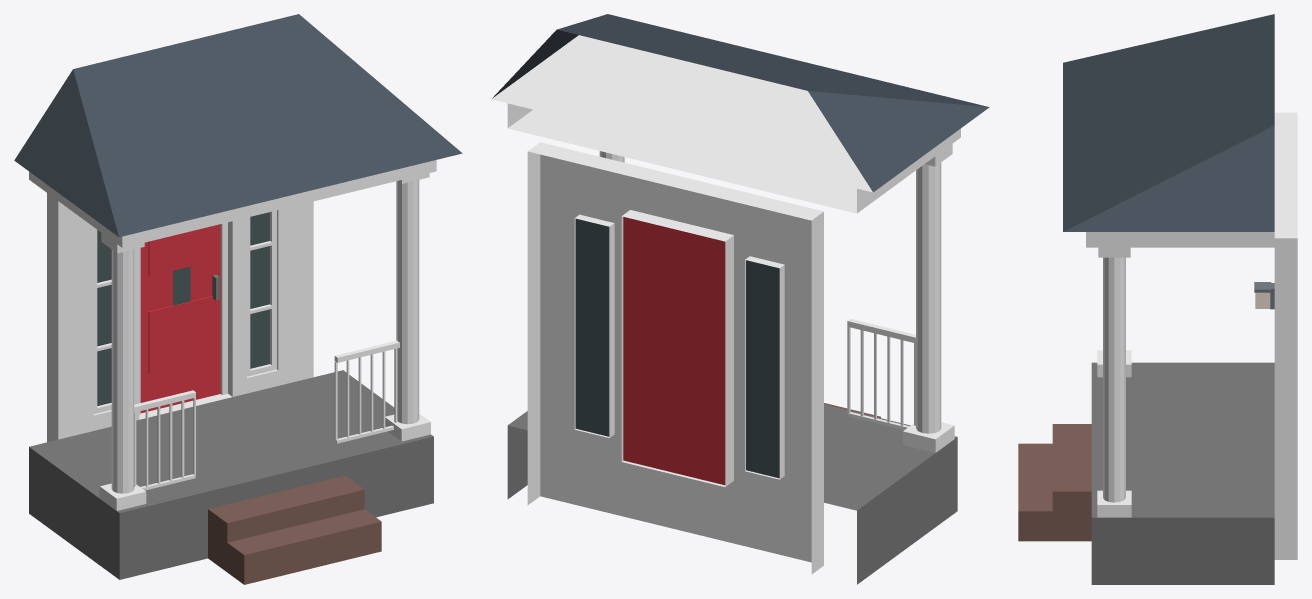
The model's file is entrance_close.fbx.
3 renders of one model, left to right at view 1: azimuth 30°, elevation 25°; view 2: azimuth 150°, elevation 25°; view 3: azimuth 270°, elevation 25°, orthographic. The views are drawn at different scales.
Visible parts, largest first — view 1: a2000/600/entrance_close; view 2: a2000/600/entrance_close; view 3: a2000/600/entrance_close.
Boxes of the visible parts, x1,y1,x2,y2 form: a2000/600/entrance_close: [14, 14, 462, 584]; a2000/600/entrance_close: [491, 14, 989, 584]; a2000/600/entrance_close: [1018, 14, 1297, 584].
Size of the model in its own units: 3.5 by 4.22 by 2.44.
